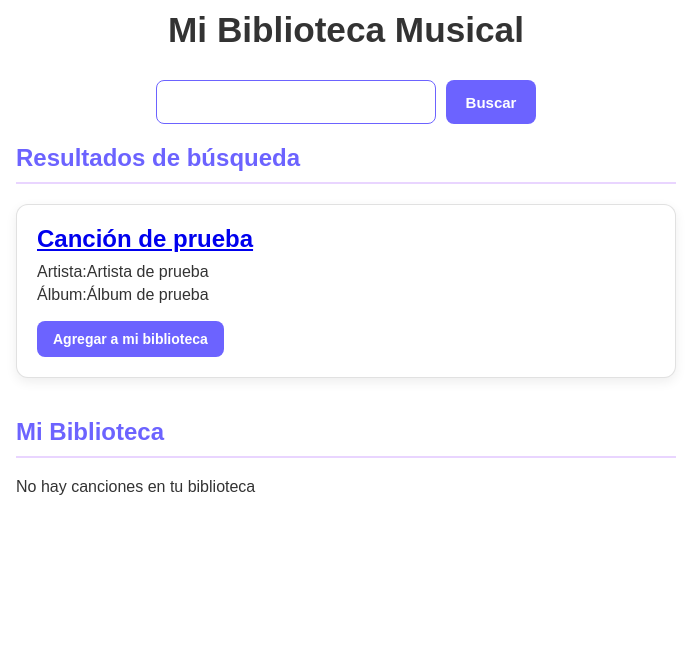
La aplicación permite agregar una canción a la biblioteca
This screenshot has width=693, height=671.
Note: Simulamos un clic en el botón para agregar la canción.
Click the button "Agregar a mi biblioteca" at (130, 339), box [37,321,224,357]
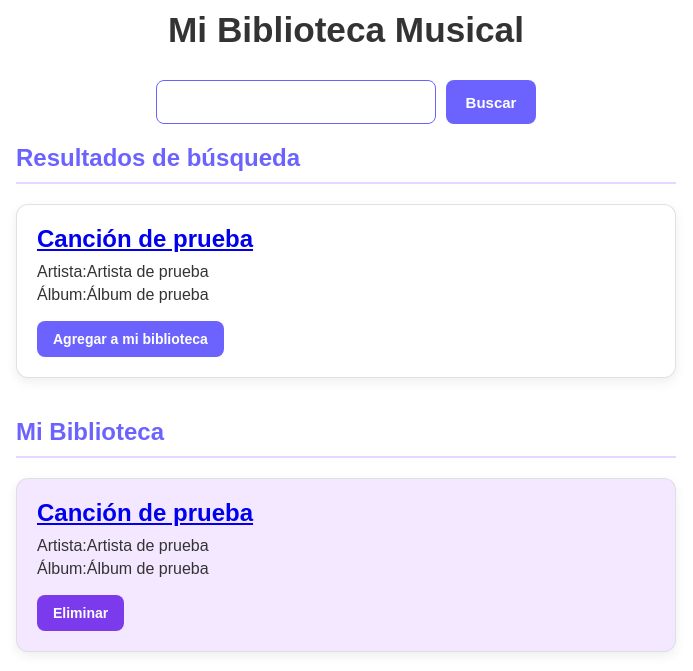
expect the number of links "Canción de prueba" is 2: met, box [37,225,253,252]; [37,499,253,526]
